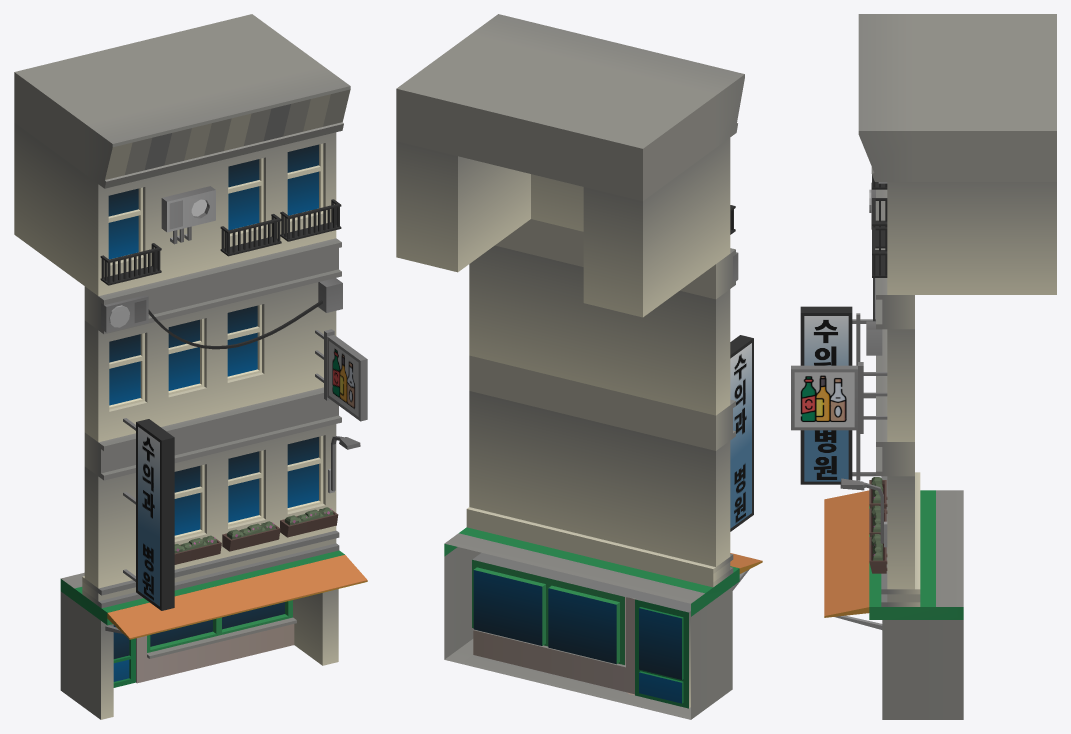
The model's file is B02_Facade_01_A.fbx.
The picture shows the model from 3 angles, left to right: view 1: azimuth 30°, elevation 25°; view 2: azimuth 150°, elevation 25°; view 3: azimuth 270°, elevation 25°; orthographic projection. The views are drawn at different scales.
Parts seen in each view (by area): view 1: B02_Facade_01_A; view 2: B02_Facade_01_A; view 3: B02_Facade_01_A.
Part boxes in pixels (left/top/right/bottom): B02_Facade_01_A: left=14, top=14, right=367, bottom=719; B02_Facade_01_A: left=396, top=14, right=762, bottom=719; B02_Facade_01_A: left=791, top=14, right=1056, bottom=719.
Bounding box in the file's own units: 1005 × 2349 × 960.
